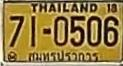0: (86, 15, 101, 46), (54, 15, 68, 45)
1: (30, 15, 35, 46)
5: (70, 15, 84, 46)
6: (104, 15, 117, 46)
7: (9, 15, 23, 46)
SPK: (28, 49, 101, 63)
